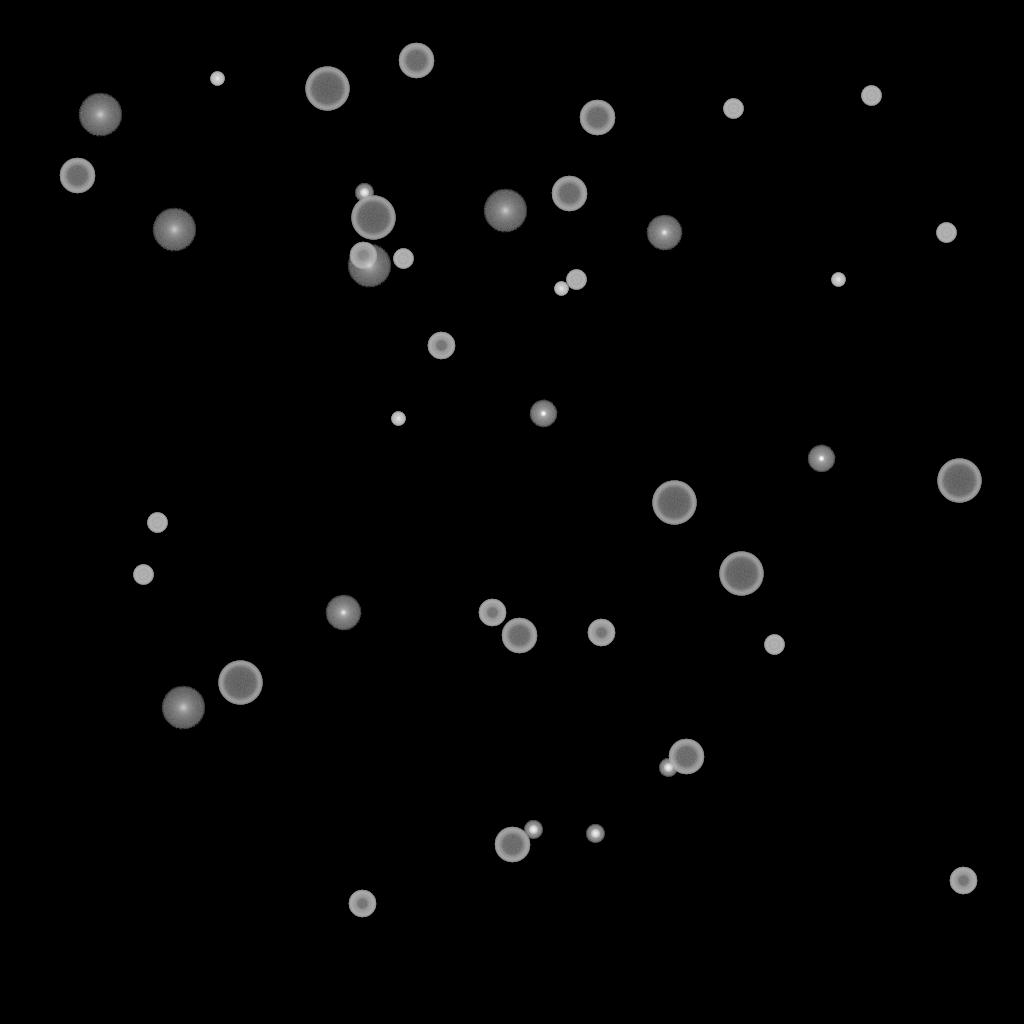depth:-10: (529, 400, 557, 428), (807, 445, 835, 473)
depth:-20: (586, 825, 604, 843), (355, 184, 373, 202), (524, 821, 542, 839), (659, 759, 677, 777)
depth:-30: (210, 72, 224, 86), (554, 282, 568, 296), (391, 412, 405, 426), (831, 273, 845, 287)
depth:-40: (566, 270, 586, 290), (133, 565, 153, 585), (723, 99, 743, 119), (936, 223, 956, 243), (393, 249, 413, 269), (147, 513, 167, 533), (861, 86, 881, 106), (764, 635, 784, 655)
depth:-50: (427, 332, 455, 360), (348, 890, 376, 918), (949, 867, 977, 895), (349, 242, 377, 270), (587, 619, 615, 647), (478, 599, 506, 627)
depth:-60: (668, 739, 704, 775), (501, 618, 537, 654), (494, 827, 530, 863), (398, 43, 434, 79), (579, 100, 615, 136), (551, 176, 587, 212), (59, 158, 95, 194)
depth:-70: (652, 481, 696, 525), (305, 67, 349, 111), (218, 661, 262, 705), (351, 196, 395, 240), (937, 459, 981, 503), (719, 552, 763, 596)
depth:0: (646, 215, 682, 251), (325, 595, 361, 631)
depth:10: (347, 244, 391, 288), (161, 686, 205, 730), (78, 93, 122, 137), (483, 189, 527, 233), (152, 208, 196, 252)
